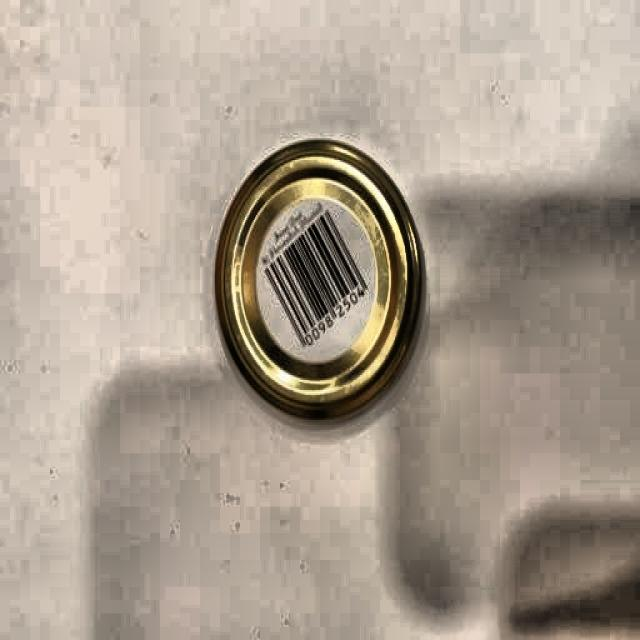metal: (216, 136, 424, 411)
